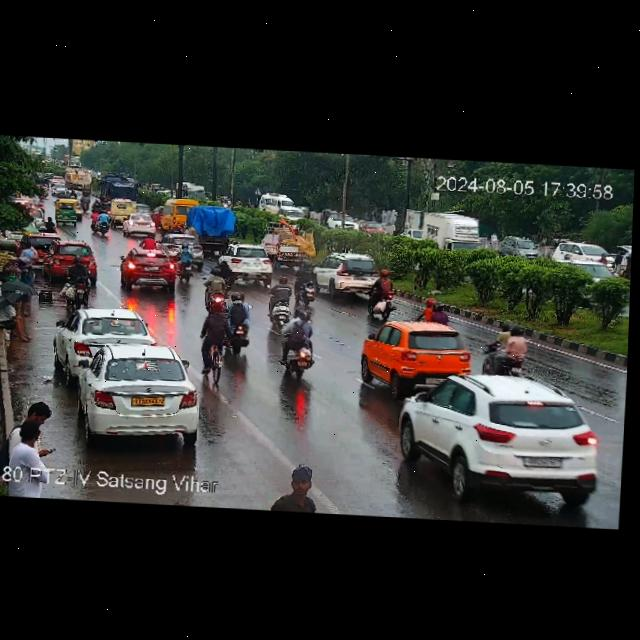car: (388, 372, 604, 501), (67, 346, 200, 443), (349, 315, 475, 390), (59, 304, 154, 366), (544, 239, 621, 284), (27, 236, 100, 278), (315, 251, 380, 295), (118, 249, 178, 296), (218, 244, 279, 283), (159, 196, 200, 231), (256, 190, 293, 218), (124, 210, 157, 237), (54, 198, 84, 225), (107, 198, 137, 225), (161, 234, 179, 252), (150, 203, 161, 227), (50, 181, 65, 193)
motorcycle: (477, 321, 530, 373), (283, 309, 318, 376), (220, 283, 251, 350), (204, 305, 230, 383), (364, 271, 400, 315), (268, 273, 297, 326), (62, 256, 91, 305), (198, 266, 226, 313), (103, 168, 141, 200), (172, 236, 205, 272), (415, 291, 452, 320), (295, 259, 317, 307), (173, 244, 198, 278), (138, 229, 162, 251), (91, 210, 112, 235), (81, 193, 88, 212), (69, 189, 77, 199)
person: (258, 463, 337, 514), (12, 260, 34, 320), (0, 300, 30, 344), (13, 419, 39, 468), (0, 363, 8, 493), (17, 240, 42, 275), (24, 402, 52, 421), (43, 216, 58, 233)
truck: (407, 209, 489, 256), (187, 204, 236, 250), (264, 223, 312, 262)
